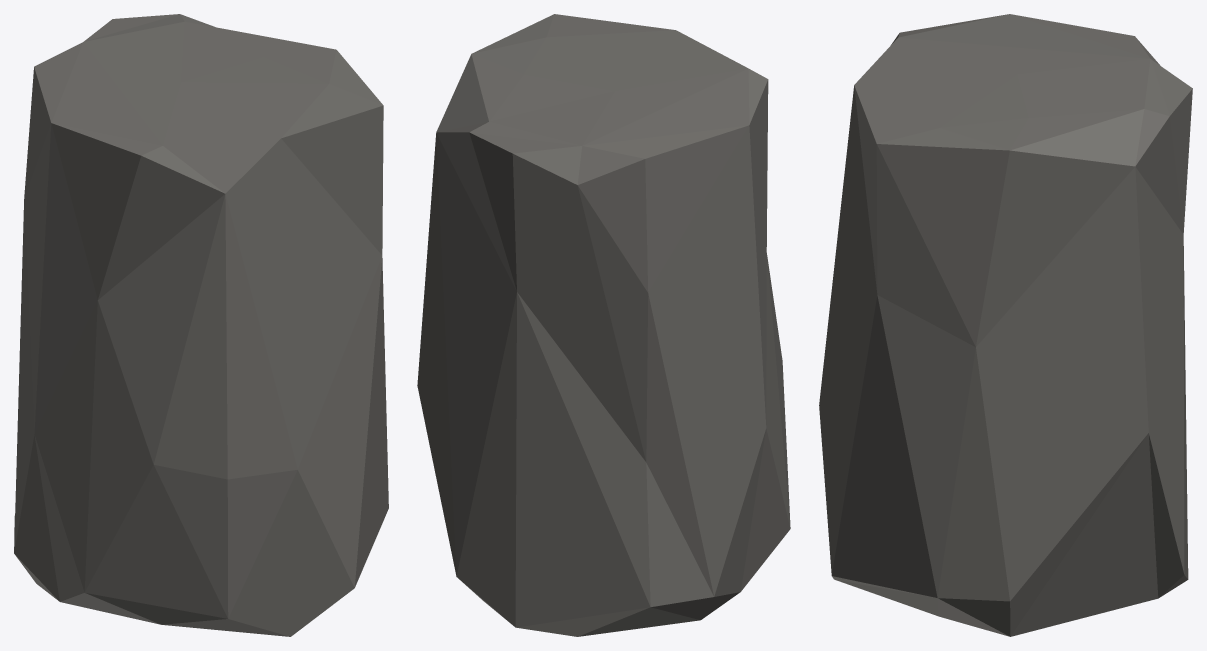
File: SM_Env_Cave_SteppingStone_01.fbx
3 views of the same model, side by side, from view 1: azimuth 30°, elevation 25°; view 2: azimuth 150°, elevation 25°; view 3: azimuth 270°, elevation 25° (orthographic). The views are drawn at different scales.
Visible parts, largest first — view 1: SM_Env_Cave_SteppingStone_01; view 2: SM_Env_Cave_SteppingStone_01; view 3: SM_Env_Cave_SteppingStone_01.
Boxes of the visible parts, box(x1,y1,x2,y2) form: SM_Env_Cave_SteppingStone_01: box(14, 14, 388, 636); SM_Env_Cave_SteppingStone_01: box(417, 14, 790, 636); SM_Env_Cave_SteppingStone_01: box(819, 14, 1192, 636).
Bounding box in the file's own units: 120 × 175 × 117.
